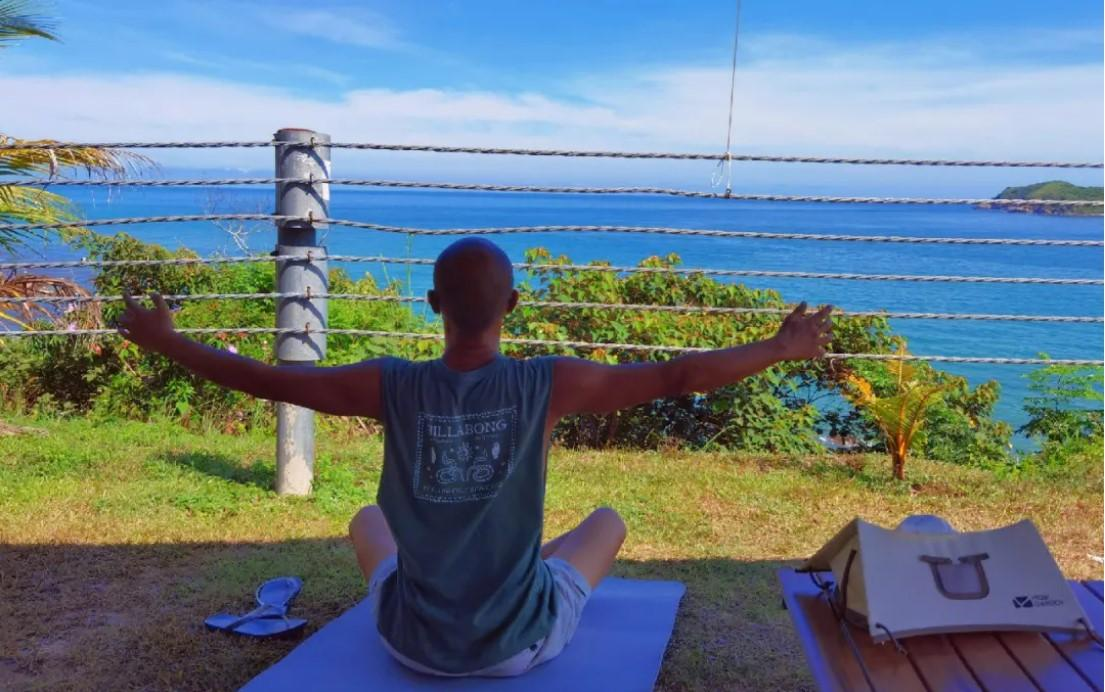bending: (106, 226, 836, 681)
